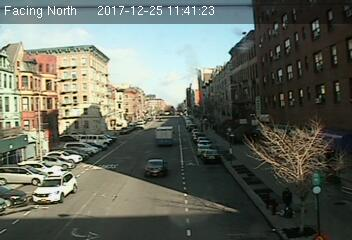car: (30, 169, 79, 204), (143, 157, 166, 177), (201, 151, 221, 162)
truck: (154, 127, 175, 147)
